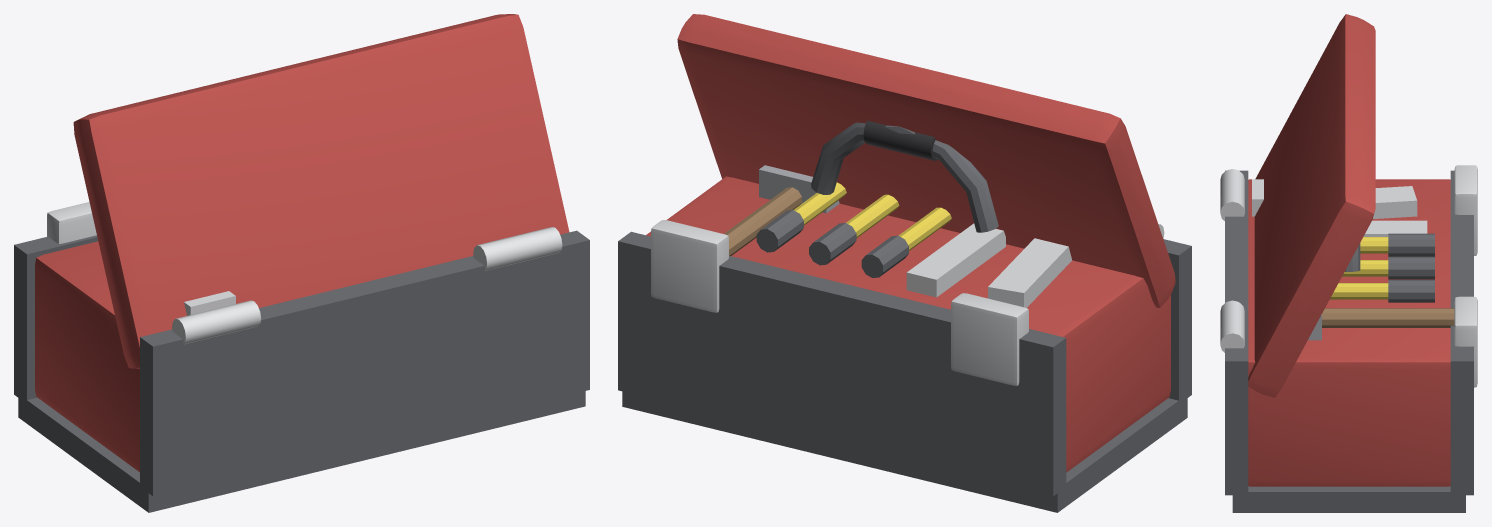
The model's file is PR_toolbox.fbx.
The picture shows the model from 3 angles, left to right: view 1: azimuth 30°, elevation 25°; view 2: azimuth 150°, elevation 25°; view 3: azimuth 270°, elevation 25°; orthographic projection. The views are drawn at different scales.
Visible parts, largest first — view 1: PR_toolbox; view 2: PR_toolbox; view 3: PR_toolbox.
Part boxes in pixels (box(x1,y1,x2,y2)): PR_toolbox: box(14, 14, 589, 512); PR_toolbox: box(618, 14, 1191, 512); PR_toolbox: box(1220, 14, 1477, 512).
Size of the model in its own units: 0.58 by 0.4414 by 0.331.
